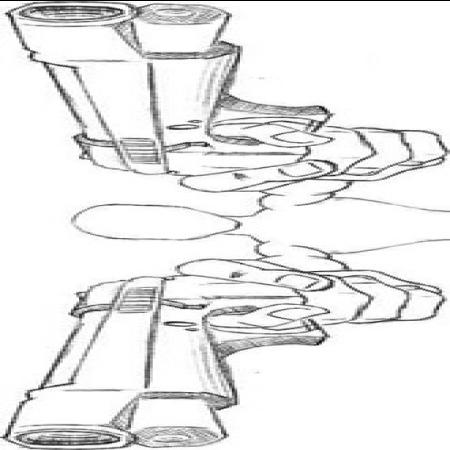Pistol: (19, 20, 398, 182)
